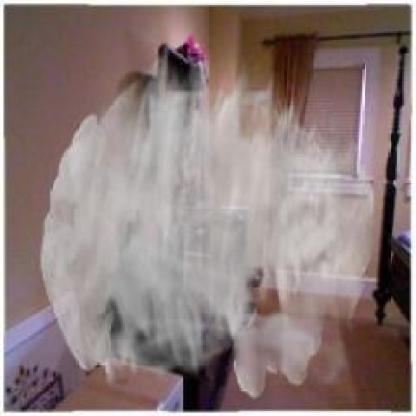Smoke: (41, 50, 375, 400)
